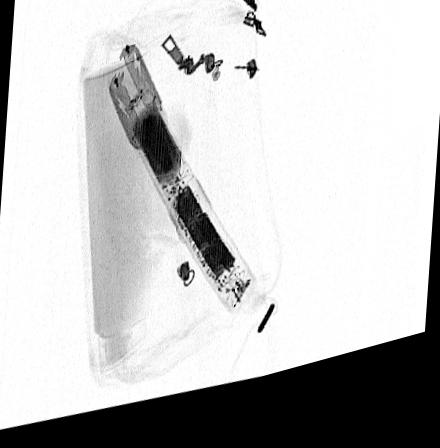Baton: (105, 46, 258, 329)
